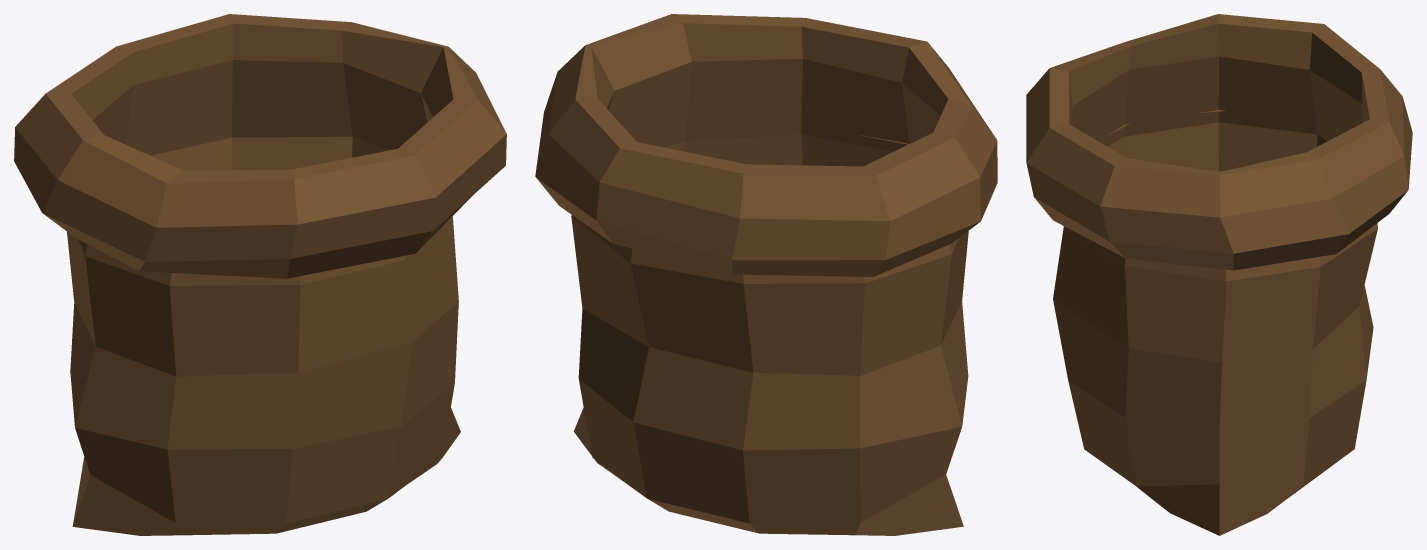
File: bag_open.fbx
The picture shows the model from 3 angles, left to right: view 1: azimuth 30°, elevation 25°; view 2: azimuth 150°, elevation 25°; view 3: azimuth 270°, elevation 25°; orthographic projection. The views are drawn at different scales.
Visible parts, largest first — view 1: bag_open; view 2: bag_open; view 3: bag_open.
Part boxes in pixels (box(x1,y1,x2,y2)): bag_open: box(14, 14, 506, 535); bag_open: box(535, 14, 997, 535); bag_open: box(1026, 14, 1412, 535).
Bounding box in the file's own units: 49.87 × 42.7 × 41.97.
